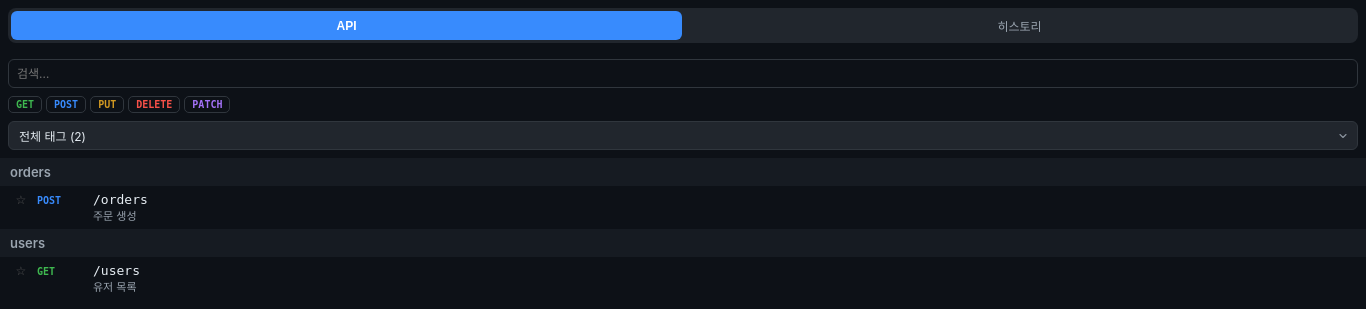
it: Sidebar - API 탭 › 검색어로 필터링한다
In the field with placeholder "검색…": {"x": 683, "y": 74} x1=8 y1=59 x2=1358 y2=88, type "orders"
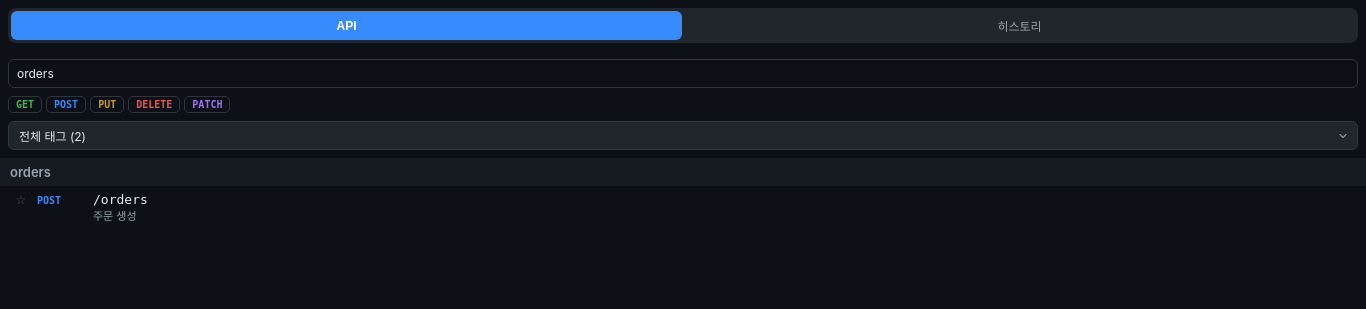
Expected: the text "/orders" is shown, x1=93 y1=192 x2=148 y2=207
Expected: the text "/users" is gone
